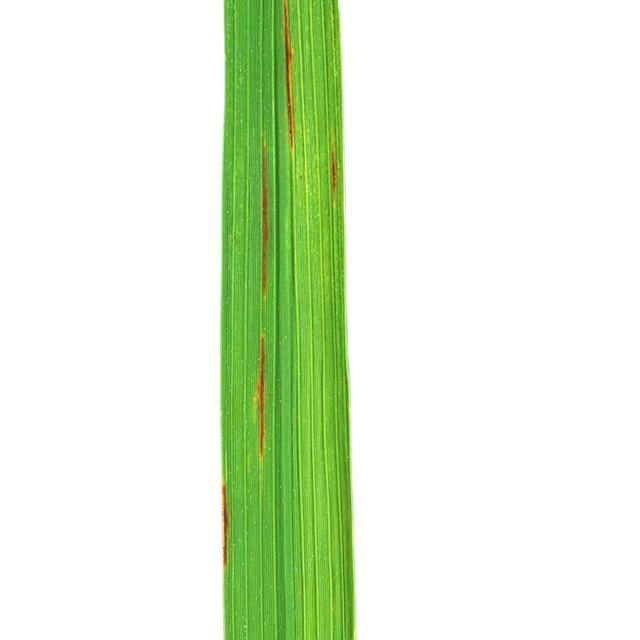Narrow brown: (208, 1, 364, 640)
